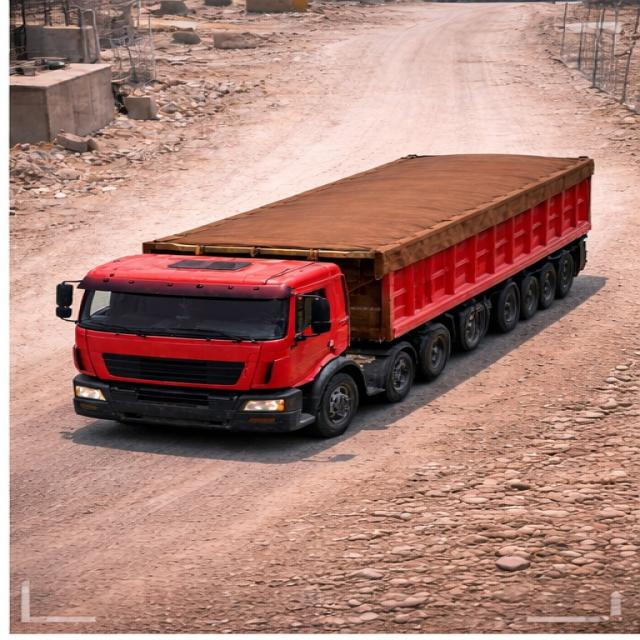Box: (134, 151, 598, 254)
Truck: (51, 145, 620, 421)
